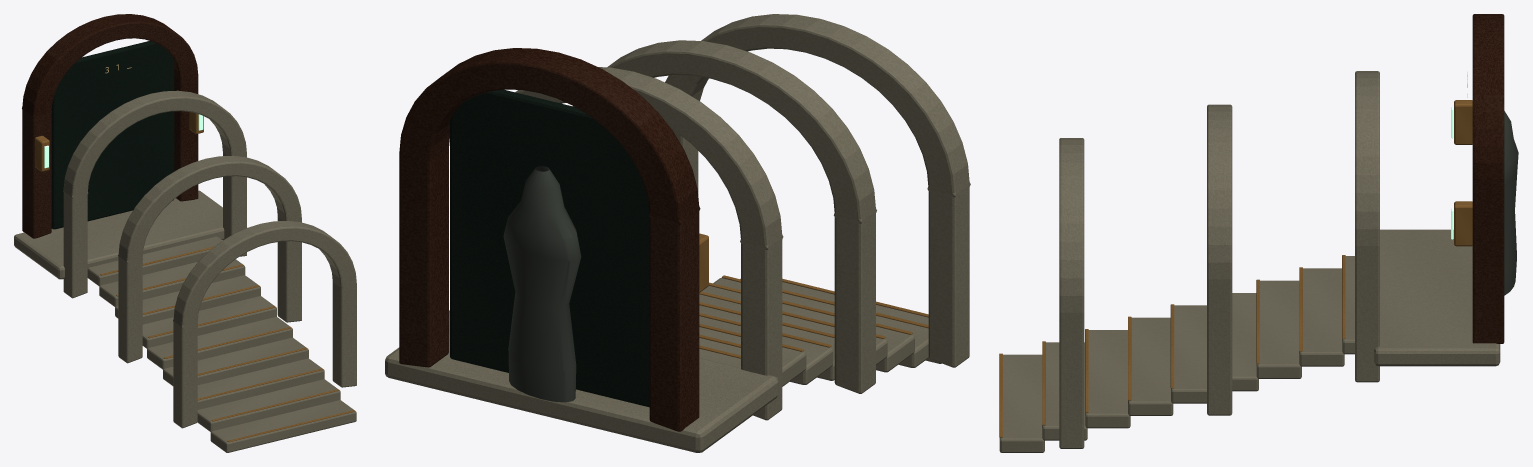
The model's file is stair-memory.glb.
The picture shows the model from 3 angles, left to right: view 1: azimuth 30°, elevation 25°; view 2: azimuth 150°, elevation 25°; view 3: azimuth 270°, elevation 25°; orthographic projection. The views are drawn at different scales.
Visible parts, largest first — view 1: Stair_Memory / Warm limestone, Threshold_door, Numbered threshold, Stair_Memory / Aged brass; view 2: Stair_Memory / Warm limestone, Threshold_door, Numbered threshold, Witness_silhouette, Stair_Memory / Aged brass; view 3: Stair_Memory / Warm limestone, Numbered threshold, Stair_Memory / Aged brass, Witness_silhouette.
Boxes of the visible parts, x1,y1,x2,y2 form: Stair_Memory / Warm limestone: [14, 90, 356, 452]; Threshold_door: [51, 41, 174, 229]; Numbered threshold: [22, 14, 198, 238]; Stair_Memory / Aged brass: [35, 112, 355, 442]; Stair_Memory / Warm limestone: [385, 14, 970, 452]; Threshold_door: [450, 89, 649, 407]; Numbered threshold: [399, 48, 700, 431]; Witness_silhouette: [503, 166, 581, 402]; Stair_Memory / Aged brass: [699, 233, 928, 358]; Stair_Memory / Warm limestone: [999, 71, 1500, 452]; Numbered threshold: [1472, 14, 1504, 343]; Stair_Memory / Aged brass: [999, 100, 1472, 437]; Witness_silhouette: [1504, 111, 1518, 295].
Size of the model in its own units: 2.18 by 3.17 by 3.89.
7 materials, 4 textured.
